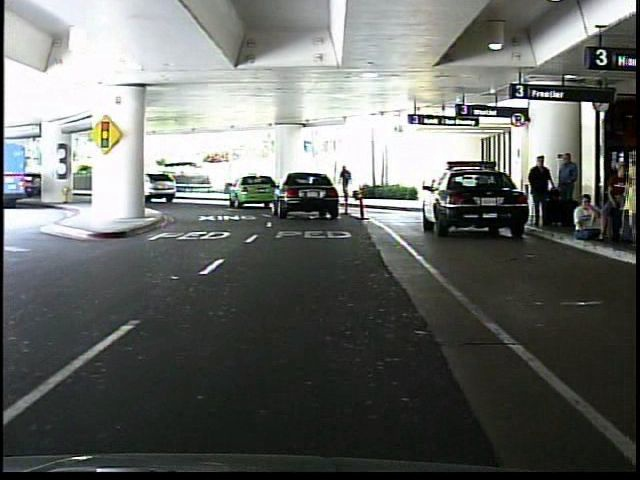person: (553, 148, 582, 230), (526, 152, 555, 230), (339, 162, 356, 205)
